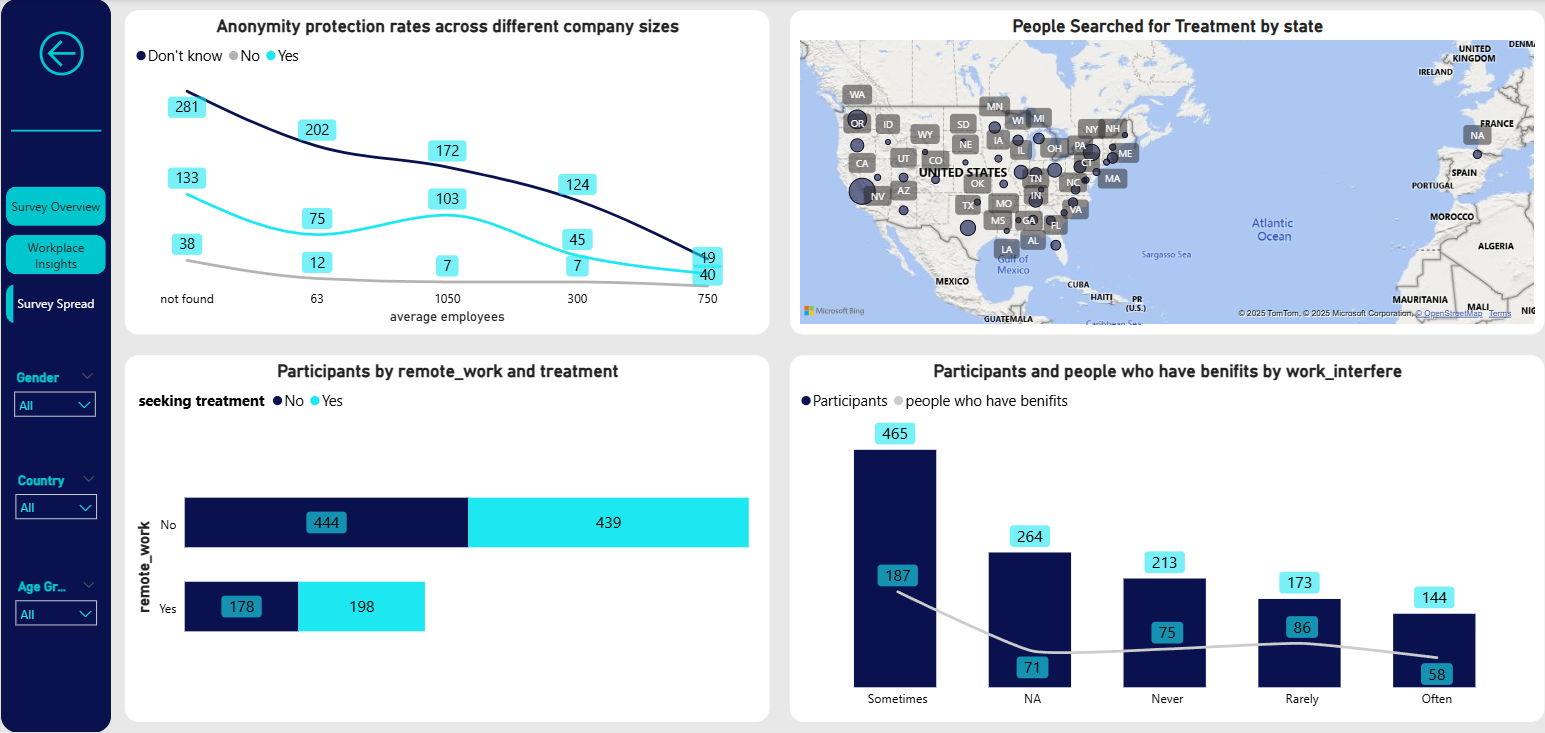

The dashboard page shown, as its layout file describes it:
{"tool":"powerbi","page":{"name":"Survey Spread","canvas":[1700,800],"ordinal":2},"visuals":[{"type":"lineClusteredColumnComboChart","fields":{"Category":["survey.work_interfere"],"Y":["MeasuresTable.Participants"],"Y2":["MeasuresTable.people who have benifits"]},"box":[860,388.3,823.3,400],"z":0},{"type":"map","title":"People Searched for Treatment by state ","fields":{"Size":["MeasuresTable.People searched for treatment"],"Category":["survey.state"]},"box":[860,11.7,823.3,353.3],"z":1000},{"type":"barChart","fields":{"Series":["survey.treatment"],"Category":["survey.remote_work"],"Y":["MeasuresTable.Participants"]},"box":[135,388.3,703.3,400],"z":2000},{"type":"lineChart","title":"Anonymity protection rates across different company sizes","fields":{"Series":["survey.anonymity"],"Category":["survey.average employee"],"Y":["MeasuresTable.Participants"]},"box":[135,11.7,703.3,353.3],"z":3000},{"type":"group","id":"g1","title":"Side Bar","box":[0,0,120,800],"z":4000},{"type":"shape","box":[0,0,120,800],"z":4000,"group":"g1"},{"type":"actionButton","box":[35.7,28.6,108.6,61.4],"z":5000},{"type":"slicer","fields":{"Values":["survey.Gender"]},"box":[4.6,400,109.4,76.7],"z":6000,"group":"g1"},{"type":"shape","box":[10.6,103.3,98.7,80],"z":8000,"group":"g1"},{"type":"pageNavigator","box":[6.1,205,109.4,150],"z":9000,"group":"g1"},{"type":"slicer","fields":{"Values":["survey.Country"]},"box":[6.1,511.7,109.4,76.7],"z":10000,"group":"g1"},{"type":"slicer","fields":{"Values":["survey.Age Groups"]},"box":[6.1,626.7,109.4,76.7],"z":11000,"group":"g1"}]}

Visuals, with their boxes in screenshot pixels (x1, y1, x2, y2), scaled from the page's 1700x800 canvas onto the 1545x733 screenshot:
lineClusteredColumnComboChart - survey.work_interfere x MeasuresTable.Participants: x1=782 y1=356 x2=1530 y2=722
"People Searched for Treatment by state " map: x1=782 y1=11 x2=1530 y2=334
barChart - survey.treatment x survey.remote_work: x1=123 y1=356 x2=762 y2=722
"Anonymity protection rates across different company sizes" lineChart: x1=123 y1=11 x2=762 y2=334
"Side Bar" group: x1=0 y1=0 x2=109 y2=732
shape: x1=0 y1=0 x2=109 y2=732
actionButton: x1=32 y1=26 x2=131 y2=82
slicer - survey.Gender: x1=4 y1=366 x2=104 y2=437
shape: x1=10 y1=95 x2=99 y2=168
pageNavigator: x1=6 y1=188 x2=105 y2=325
slicer - survey.Country: x1=6 y1=469 x2=105 y2=539
slicer - survey.Age Groups: x1=6 y1=574 x2=105 y2=644
